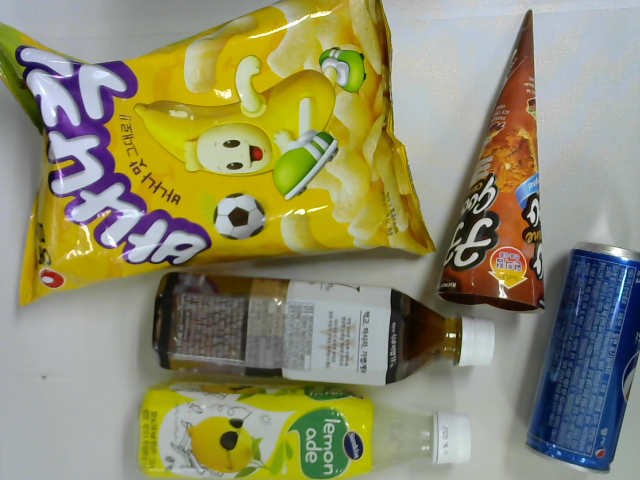Banana_Kick: (1, 1, 437, 309)
GooGoo_Cone_CVS: (435, 10, 559, 313)
Pepsi_Cola_Can_250ml: (521, 238, 640, 475)
Post-meal_recipe_W_tea_500ml: (149, 270, 499, 387)
Sunkist_Lemonaid_Pet: (138, 376, 475, 479)
